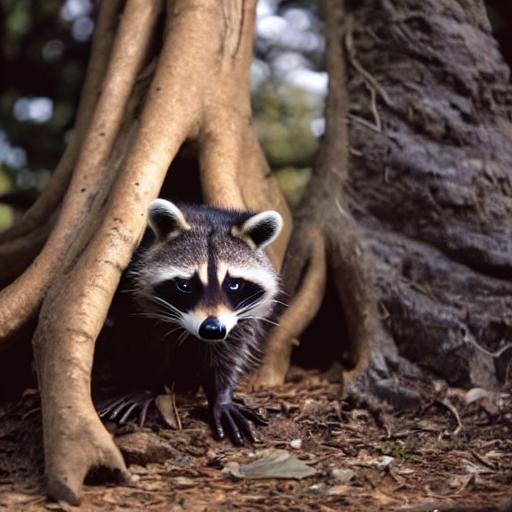raccoon: (105, 183, 292, 386)
